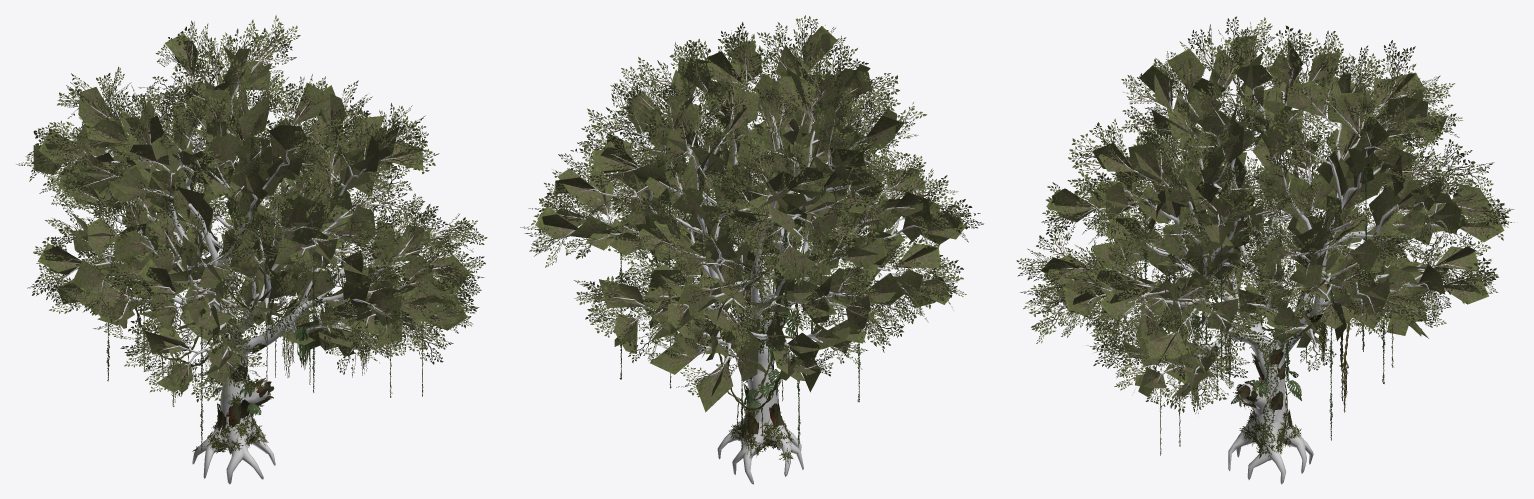
File: TreeGen.fbx
3 renders of one model, left to right at view 1: azimuth 30°, elevation 25°; view 2: azimuth 150°, elevation 25°; view 3: azimuth 270°, elevation 25°, orthographic. The views are drawn at different scales.
Parts seen in each view (by area): view 1: TreeGen; view 2: TreeGen; view 3: TreeGen.
Part boxes in pixels (<box>): TreeGen: <box>16,15,487,484</box>; TreeGen: <box>520,15,983,484</box>; TreeGen: <box>1016,16,1514,484</box>.
Size of the model in its own units: 2113 by 2248 by 2406.
